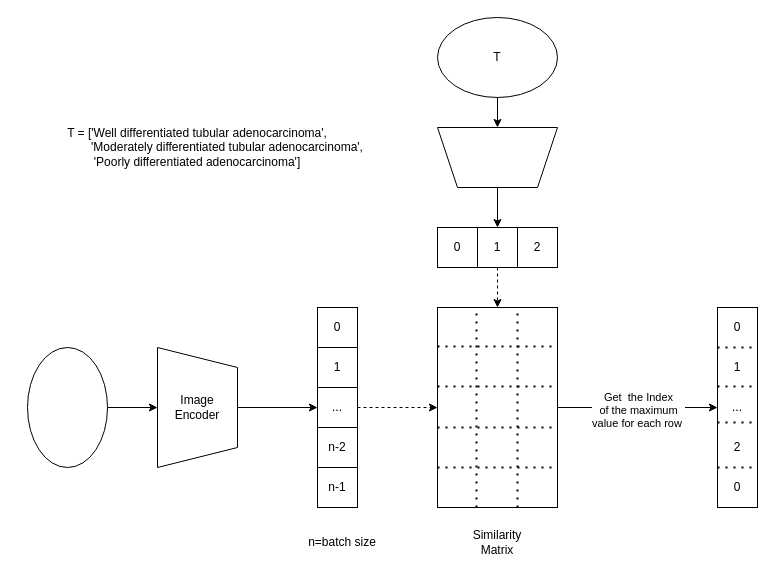
Some shapes in this 776 by 575 pixel diagram are drawn without their labels. The shapes that lost their labels are listed below. From the top down, each one's box as (x1, y1, x2, y2) in pixels, then its label:
(436, 126, 558, 188): Text Enocer
(26, 346, 108, 468): Images
